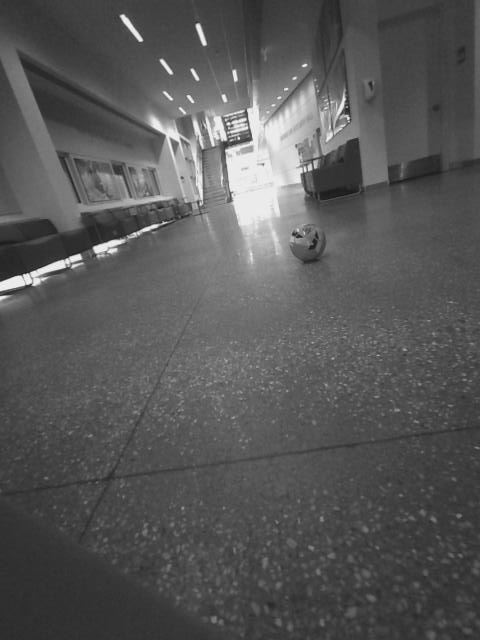ball: (285, 218, 334, 265)
